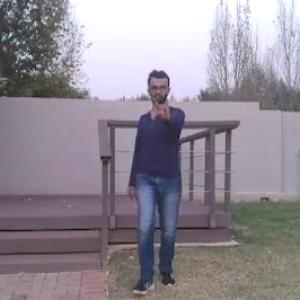takeoff-hand: (149, 89, 184, 123)
